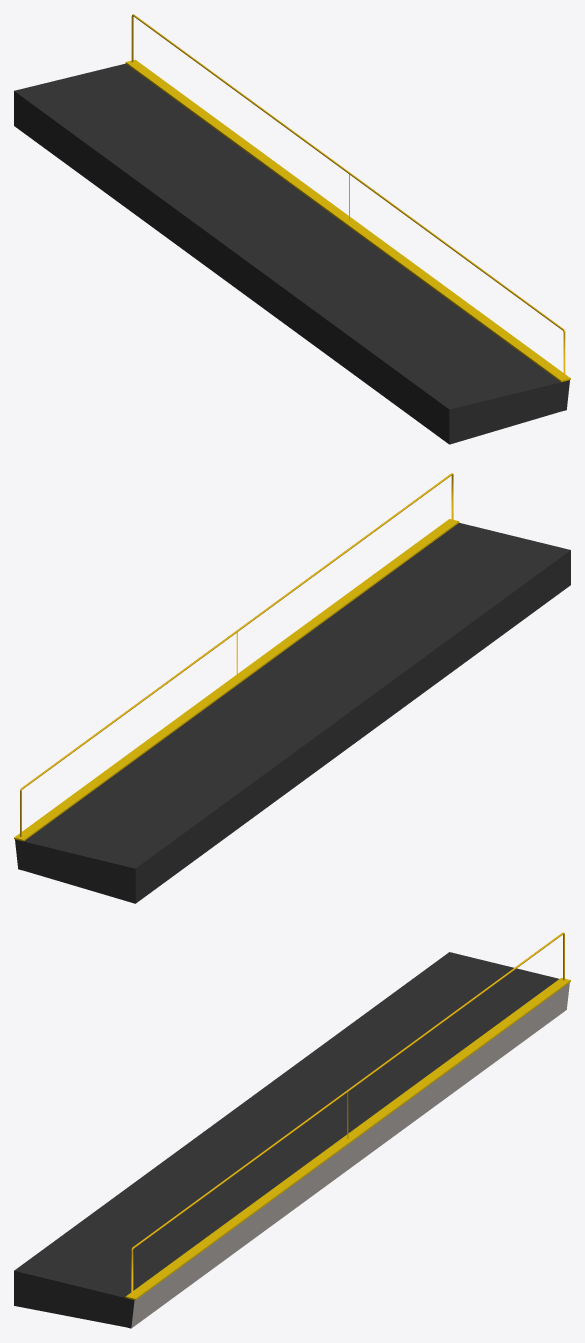
Rendered from Platform.fbx.
The picture shows the model from 3 angles, top to bottom: view 1: azimuth 30°, elevation 25°; view 2: azimuth 150°, elevation 25°; view 3: azimuth 330°, elevation 25°; orthographic projection.
Parts seen in each view (by area): view 1: Cube; view 2: Cube; view 3: Cube.
Boxes of the visible parts, x1,y1,x2,y2 form: Cube: [14, 14, 570, 444]; Cube: [14, 473, 570, 903]; Cube: [14, 932, 570, 1328].
Size of the model in its own units: 218 by 146 by 1350.
